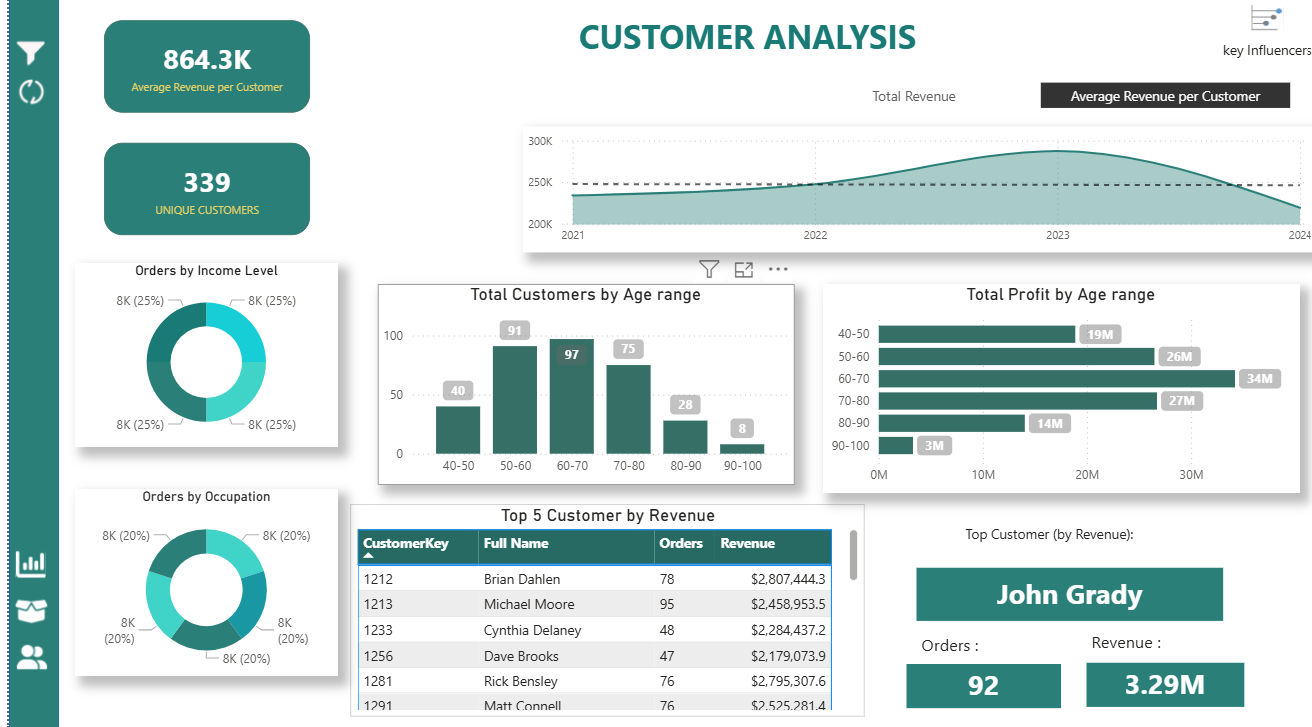

What the dashboard file says about the page in this screenshot:
{"tool":"powerbi","page":{"name":"Customer Analysis","canvas":[1280,720],"ordinal":2},"visuals":[{"type":"card","fields":{"Values":["Measure Table.Average Revenue per Customer"]},"box":[92.3,26,201.8,90.5],"z":0,"group":"g2"},{"type":"lineChart","fields":{"Y":["Measure Table.Average Revenue per Customer"],"Category":["Calender Lookup.Date.Variation.Date Hierarchy.Year","Calender Lookup.Date.Variation.Date Hierarchy.Quarter","Calender Lookup.Date.Variation.Date Hierarchy.Month"]},"box":[502.6,129.4,777.6,123.1],"z":0,"group":"g4"},{"type":"card","fields":{"Values":["Measure Table.Total Customers"]},"box":[92.3,145.7,201.8,90.5],"z":0,"group":"g3"},{"type":"group","id":"g1","title":"Group 9","box":[333.8,498.9,874.3,207.9],"z":0},{"type":"actionButton","box":[2.9,539.6,46.2,37.5],"z":0,"group":"g5"},{"type":"card","fields":{"Values":["Min(Customer lookup.Customer Full name)"]},"box":[887.4,561.1,299.7,52],"z":0,"group":"g1"},{"type":"slicer","fields":{"Values":["Customer Metric Selection .Customer Metric Selection "]},"box":[737.1,79.5,539.9,36],"z":1000,"group":"g4"},{"type":"clusteredColumnChart","fields":{"Y":["Measure Table.Total Customers"],"Category":["Customer lookup.Age range"]},"box":[360.7,284.2,406.9,196.2],"z":1000},{"type":"textbox","box":[930.7,513.5,188.8,40.4],"z":1000,"group":"g1"},{"type":"actionButton","box":[3.2,584.5,44.7,39],"z":1000,"group":"g5"},{"type":"clusteredBarChart","fields":{"Y":["Measure Table.Total Profit"],"Category":["Customer lookup.Age range"]},"box":[796.4,284.2,466,204.9],"z":2000},{"type":"tableEx","title":"Top 5 Customer by Revenue","fields":{"Values":["Customer lookup  table.CustomerKey","Customer lookup  table.Customer Full name","Measure Table.Total Orders","Measure Table.Revenue"]},"box":[333.8,498.9,502.9,207.9],"z":2000,"group":"g1"},{"type":"actionButton","box":[3.7,630.3,45.6,37.8],"z":2000,"group":"g5"},{"type":"group","id":"g2","title":"Group 1","box":[92.3,26,202,89.5],"z":3000},{"type":"card","fields":{"Values":["Measure Table.Total Orders"]},"box":[878.1,656,151.3,43.3],"z":3000,"group":"g1"},{"type":"group","id":"g3","title":"Group 1","box":[92.3,145.7,202,90.9],"z":4000},{"type":"card","fields":{"Values":["Measure Table.Revenue"]},"box":[1053.9,654.5,154.2,43.3],"z":4000,"group":"g1"},{"type":"donutChart","title":"Orders by Occupation","fields":{"Y":["Sum(Measure Table.Total Orders 1)"],"Category":["Customer lookup  table.Occupation"]},"box":[64.9,484.8,256.8,183.2],"z":5000},{"type":"textbox","box":[887.4,620.3,126.8,36.1],"z":5000,"group":"g1"},{"type":"donutChart","title":"Orders by Income Level","fields":{"Category":["Customer lookup  table.Income Level"],"Y":["Sum(Measure Table.Total Orders 1)"]},"box":[64.9,262.6,256.8,180.3],"z":6000},{"type":"textbox","box":[1053.9,617,122.5,36.1],"z":6000,"group":"g1"},{"type":"shape","box":[0,0,48.9,720.2],"z":7000},{"type":"textbox","box":[422.7,2.9,601.6,73.6],"z":8000},{"type":"group","id":"g4","title":"Group 2","box":[502.6,79.5,777.7,173.6],"z":9000},{"type":"actionButton","box":[3.7,40.4,36.7,35.5],"z":11000},{"type":"actionButton","box":[1208.2,0,56.3,42.8],"z":13000},{"type":"group","id":"g5","title":"Navigation Buttons","box":[2.9,539.6,46.2,128.4],"z":15000},{"type":"textbox","box":[1182.5,40.4,97.8,30.6],"z":16000},{"type":"actionButton","box":[3.7,70.9,36.7,50.1],"z":17000}]}

Visuals, with their boxes on the page's 1280x720 design canvas (x1, y1, x2, y2). These are canvas units, not pixel positions in the 1312x727 screenshot, which may show the page scaled, cropped or inside an application window:
card - Measure Table.Average Revenue per Customer: bbox(92, 26, 294, 116)
lineChart - Measure Table.Average Revenue per Customer x Calender Lookup.Date.Variation.Date Hierarchy.Year: bbox(503, 129, 1280, 252)
card - Measure Table.Total Customers: bbox(92, 146, 294, 236)
"Group 9" group: bbox(334, 499, 1208, 707)
actionButton: bbox(3, 540, 49, 577)
card - Min(Customer lookup.Customer Full name): bbox(887, 561, 1187, 613)
slicer - Customer Metric Selection .Customer Metric Selection : bbox(737, 80, 1277, 116)
clusteredColumnChart - Measure Table.Total Customers x Customer lookup.Age range: bbox(361, 284, 768, 480)
textbox: bbox(931, 514, 1120, 554)
actionButton: bbox(3, 584, 48, 624)
clusteredBarChart - Measure Table.Total Profit x Customer lookup.Age range: bbox(796, 284, 1262, 489)
"Top 5 Customer by Revenue" tableEx: bbox(334, 499, 837, 707)
actionButton: bbox(4, 630, 49, 668)
"Group 1" group: bbox(92, 26, 294, 116)
card - Measure Table.Total Orders: bbox(878, 656, 1029, 699)
"Group 1" group: bbox(92, 146, 294, 237)
card - Measure Table.Revenue: bbox(1054, 654, 1208, 698)
"Orders by Occupation" donutChart: bbox(65, 485, 322, 668)
textbox: bbox(887, 620, 1014, 656)
"Orders by Income Level" donutChart: bbox(65, 263, 322, 443)
textbox: bbox(1054, 617, 1176, 653)
shape: bbox(0, 0, 49, 720)
textbox: bbox(423, 3, 1024, 76)
"Group 2" group: bbox(503, 80, 1280, 253)
actionButton: bbox(4, 40, 40, 76)
actionButton: bbox(1208, 0, 1264, 43)
"Navigation Buttons" group: bbox(3, 540, 49, 668)
textbox: bbox(1182, 40, 1280, 71)
actionButton: bbox(4, 71, 40, 121)
